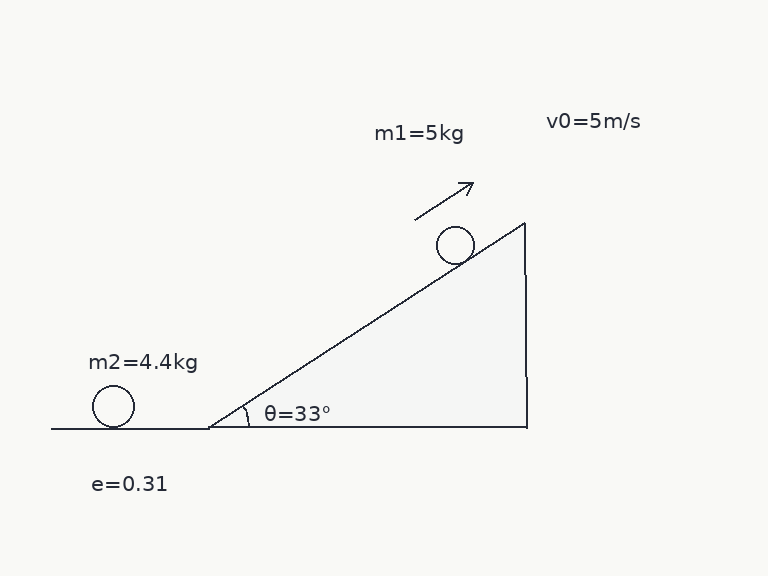ball: (90, 383, 136, 429), (434, 224, 476, 266)
ramp: (207, 220, 527, 429)
